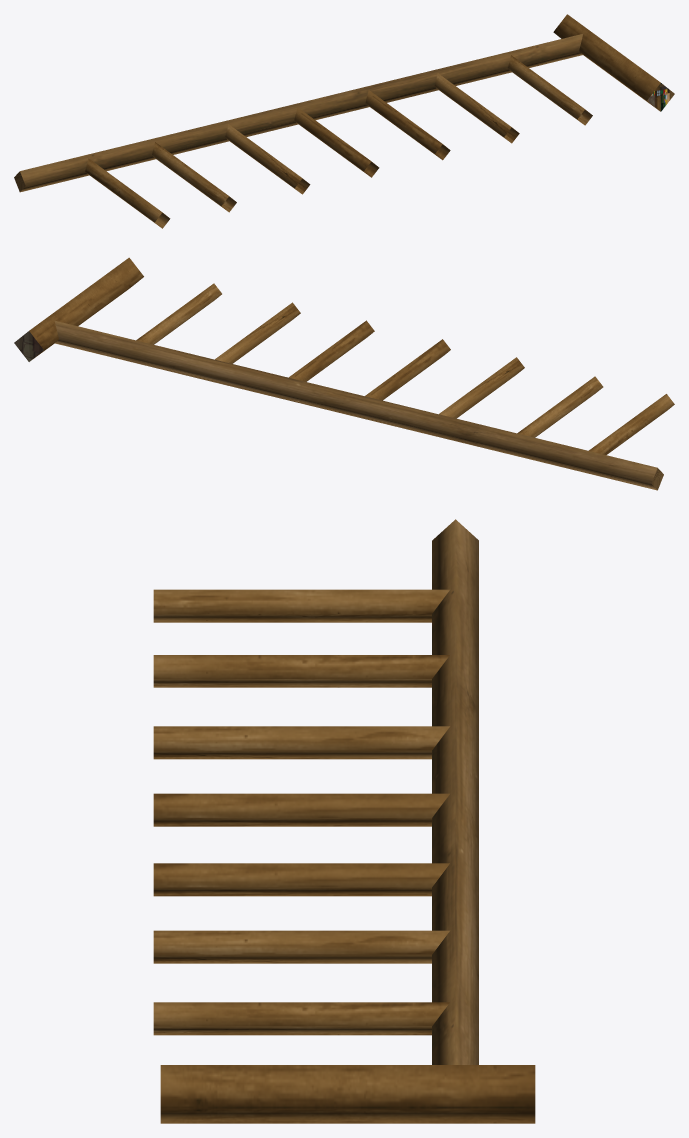
Rendered from Fencex7.fbx.
3 views of the same model, one above another, from view 1: azimuth 30°, elevation 25°; view 2: azimuth 150°, elevation 25°; view 3: azimuth 270°, elevation 25° (orthographic). The views are drawn at different scales.
Parts seen in each view (by area): view 1: Fencex7; view 2: Fencex7; view 3: Fencex7.
Part boxes in pixels (x1,y1,x2,y2): Fencex7: (14, 14, 674, 228); Fencex7: (14, 257, 674, 490); Fencex7: (153, 519, 535, 1123).
Bounding box in the file's own units: 53.97 × 2.61 × 15.34.
